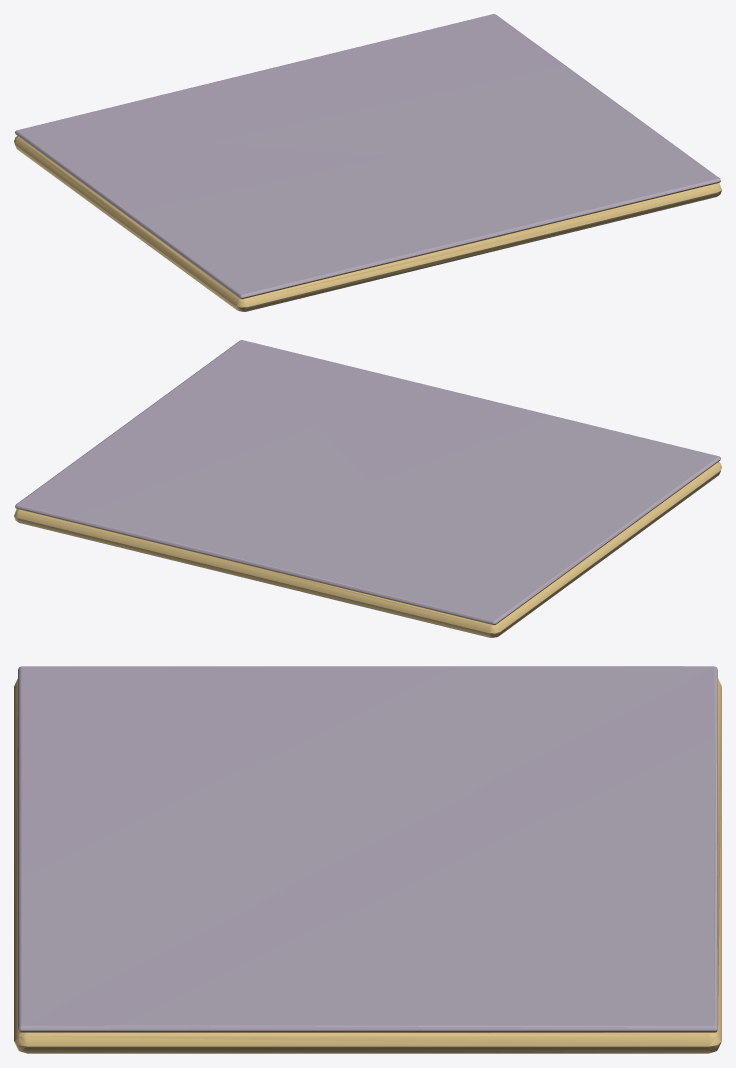
File: DW_Island_4.fbx
3 views of the same model, one above another, from view 1: azimuth 30°, elevation 25°; view 2: azimuth 150°, elevation 25°; view 3: azimuth 270°, elevation 25° (orthographic). The views are drawn at different scales.
Visible parts, largest first — view 1: Island_4; view 2: Island_4; view 3: Island_4.
Boxes of the visible parts, <box> form: Island_4: <box>14,14,721,311</box>; Island_4: <box>14,340,721,637</box>; Island_4: <box>14,666,721,1053</box>.
Bounding box in the file's own units: 22 × 0.84 × 18.
